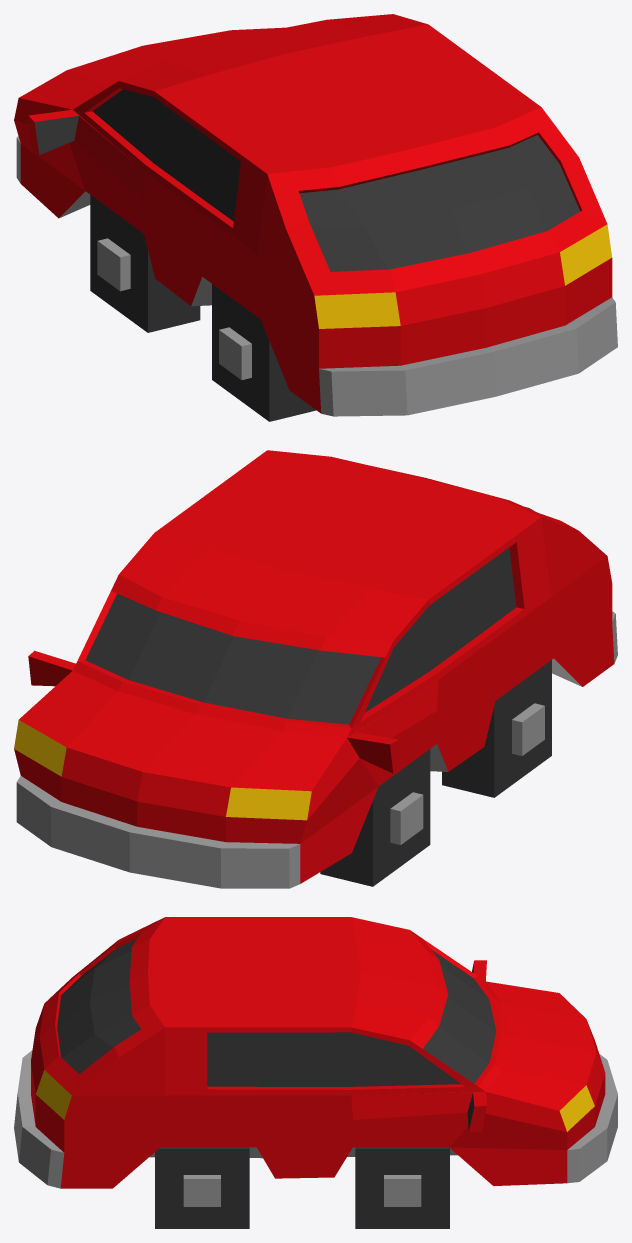
File: Car.fbx
3 renders of one model, top to bottom at view 1: azimuth 30°, elevation 25°; view 2: azimuth 150°, elevation 25°; view 3: azimuth 270°, elevation 25°, orthographic. The views are drawn at different scales.
Parts seen in each view (by area): view 1: Car; view 2: Car; view 3: Car.
Boxes of the visible parts, x1=… form: Car: x1=14, y1=14, x2=617, y2=421; Car: x1=14, y1=450, x2=617, y2=888; Car: x1=14, y1=917, x2=617, y2=1228.
Size of the model in its own units: 376 by 239 by 654.
